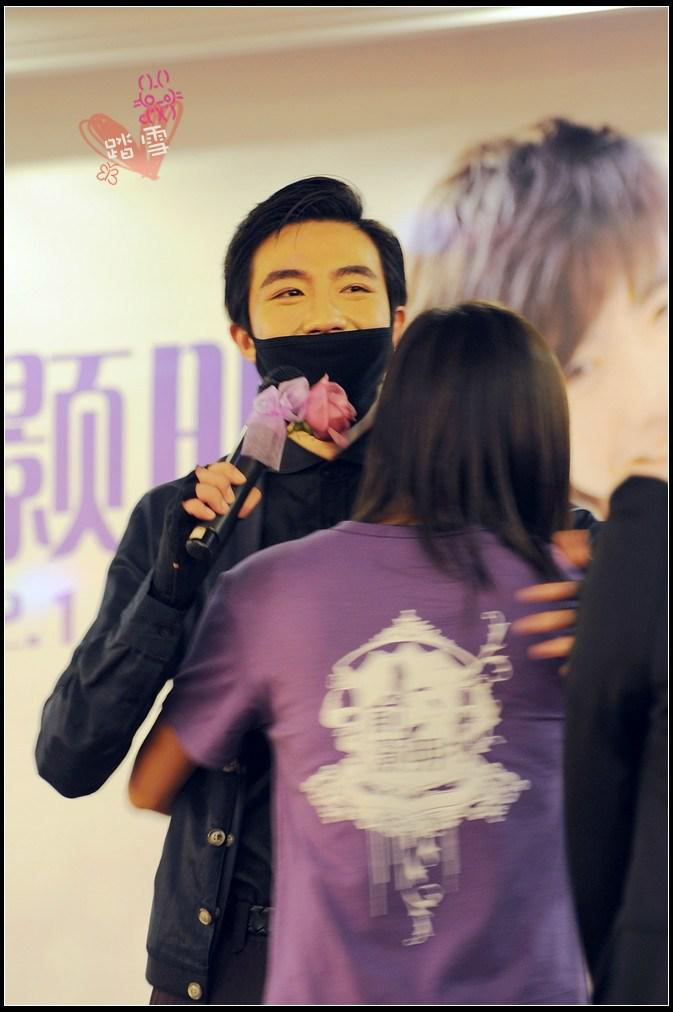WRONG: (251, 256, 394, 402)
